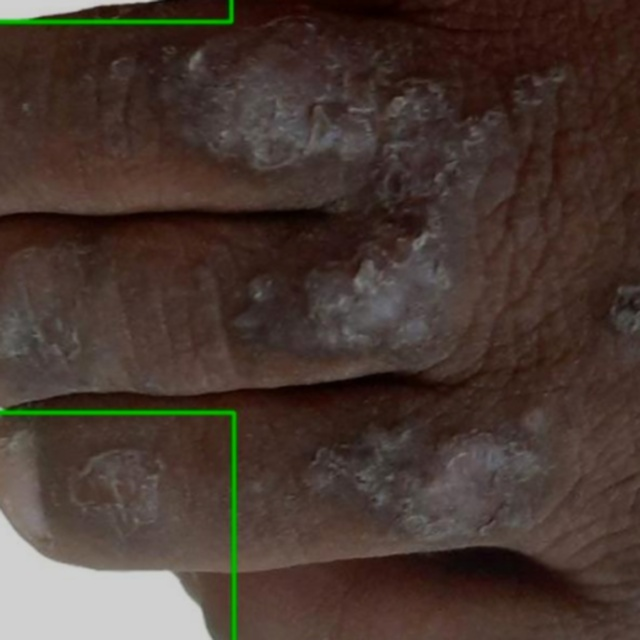Contact Dermatitis: (0, 412, 234, 639)
